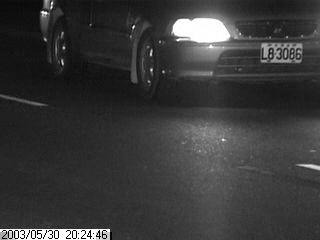plate: (259, 43, 304, 65)
